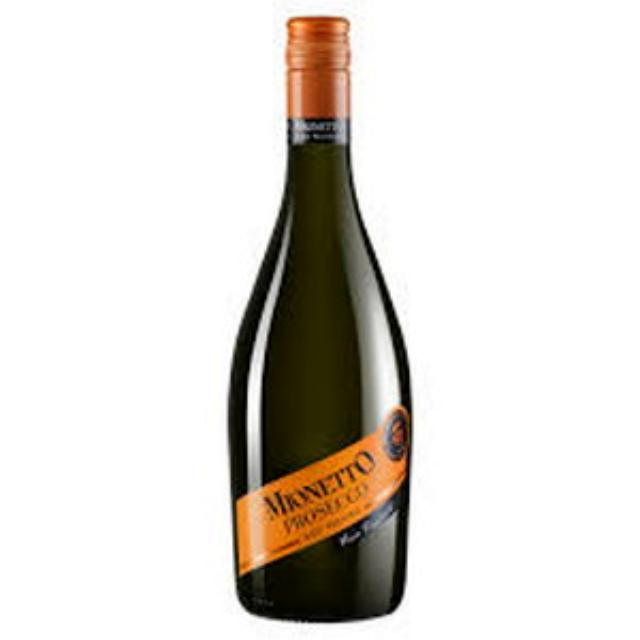Glass: (230, 18, 414, 620)
